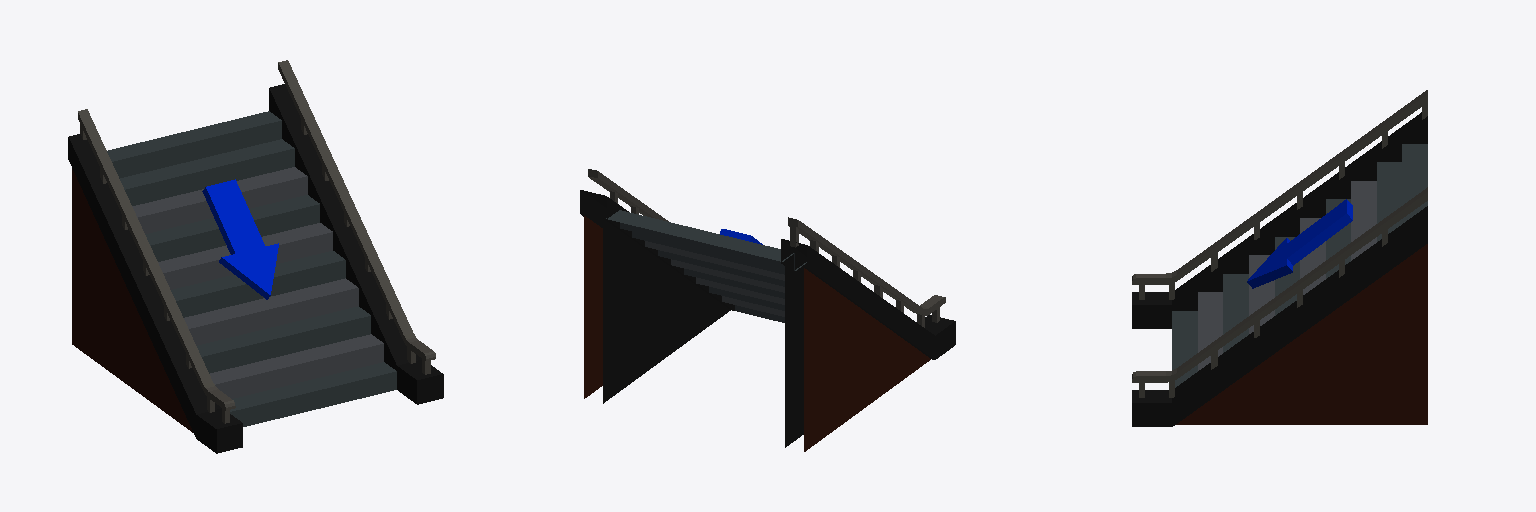
File: downStair.obj
3 renders of one model, left to right at view 1: azimuth 30°, elevation 25°; view 2: azimuth 150°, elevation 25°; view 3: azimuth 270°, elevation 25°, orthographic.
Visible parts, largest first — view 1: SM_StairCase_02, Arrow; view 2: SM_StairCase_02; view 3: SM_StairCase_02, Arrow.
Part boxes in pixels (x1,y1,x2,y2): SM_StairCase_02: (68, 60, 443, 453); Arrow: (202, 179, 278, 299); SM_StairCase_02: (580, 169, 955, 451); SM_StairCase_02: (1132, 90, 1427, 426); Arrow: (1247, 199, 1352, 288).
Bounding box in the file's own units: 0.2565 × 0.2503 × 0.2898.